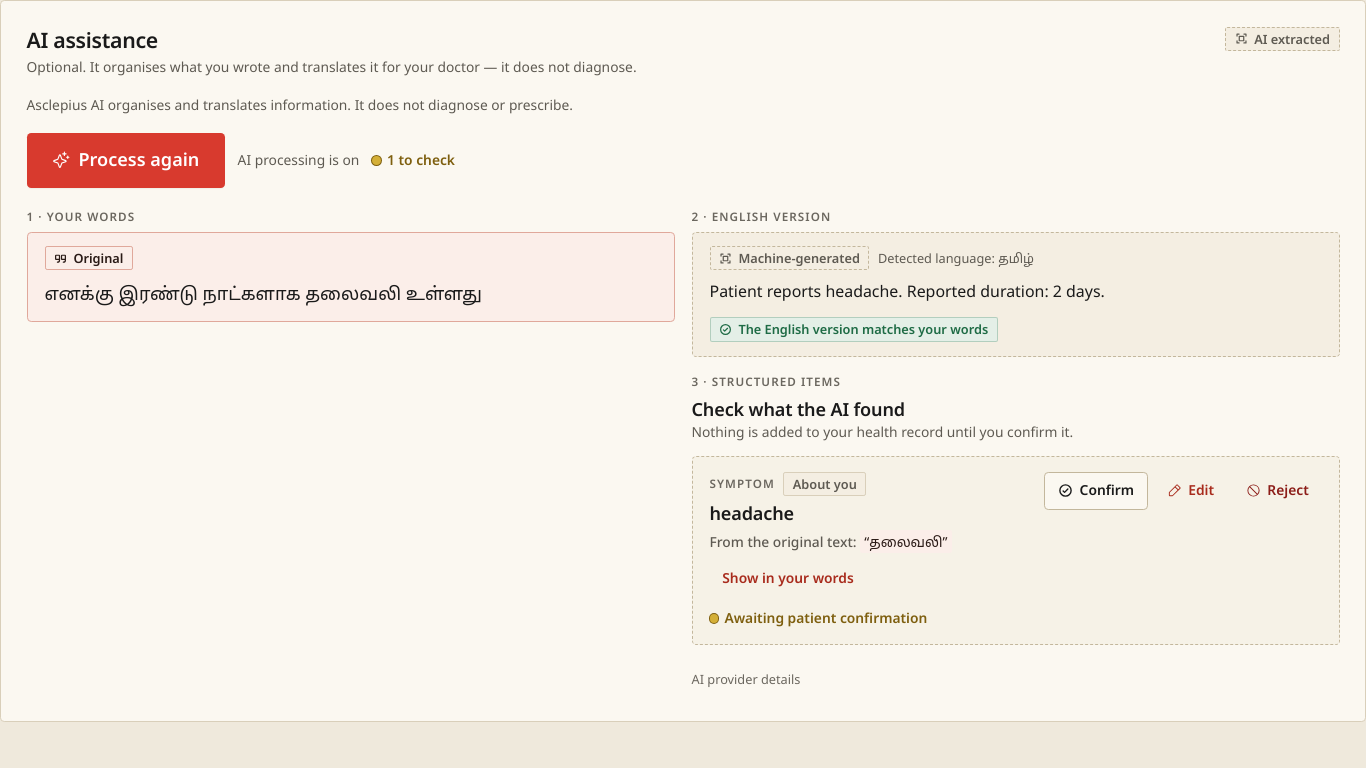
it: AIAssistPanel › confirms a fact and reflects the new state
The width and height of the screenshot is (1366, 768).
Step 1. Click the button "Confirm" → (1096, 491), box [1044, 472, 1148, 510]
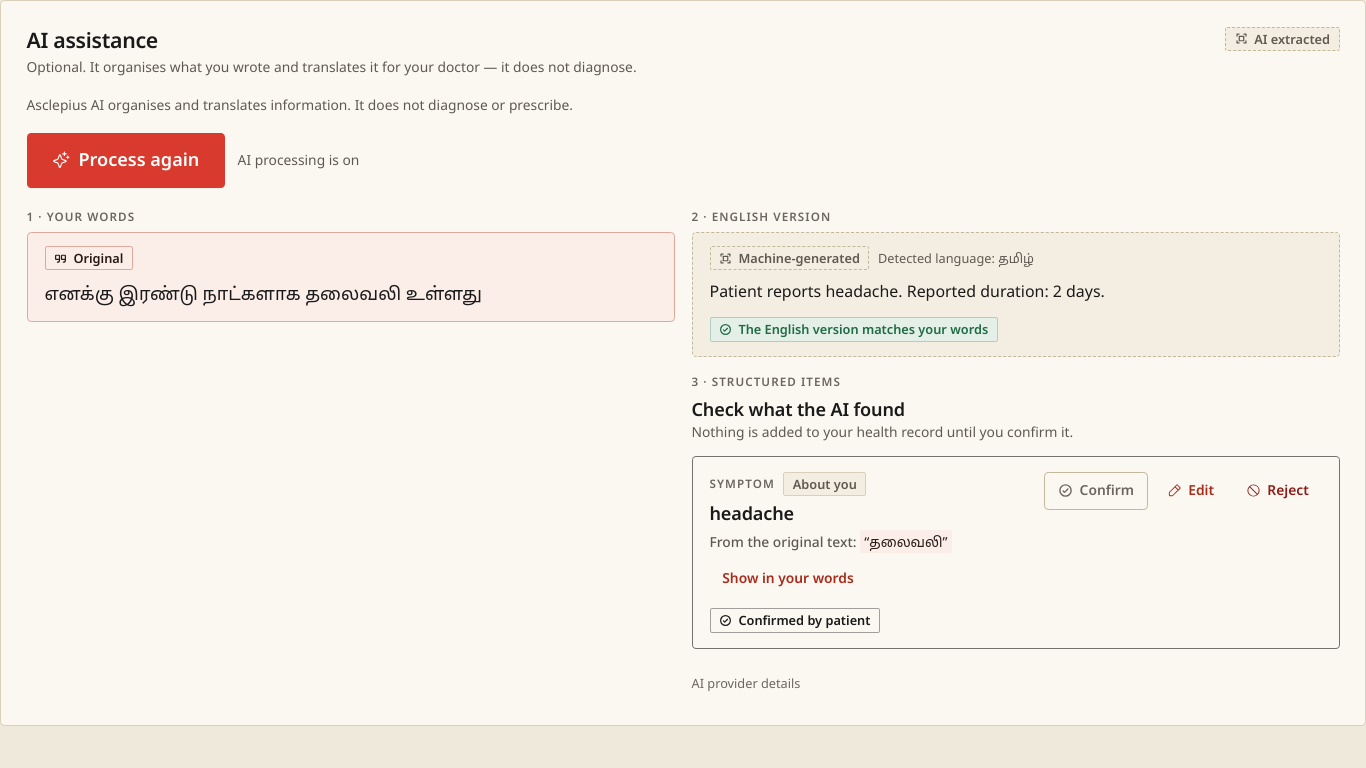
Expected: the text "Confirmed by patient" is shown, [710, 608, 880, 633]
